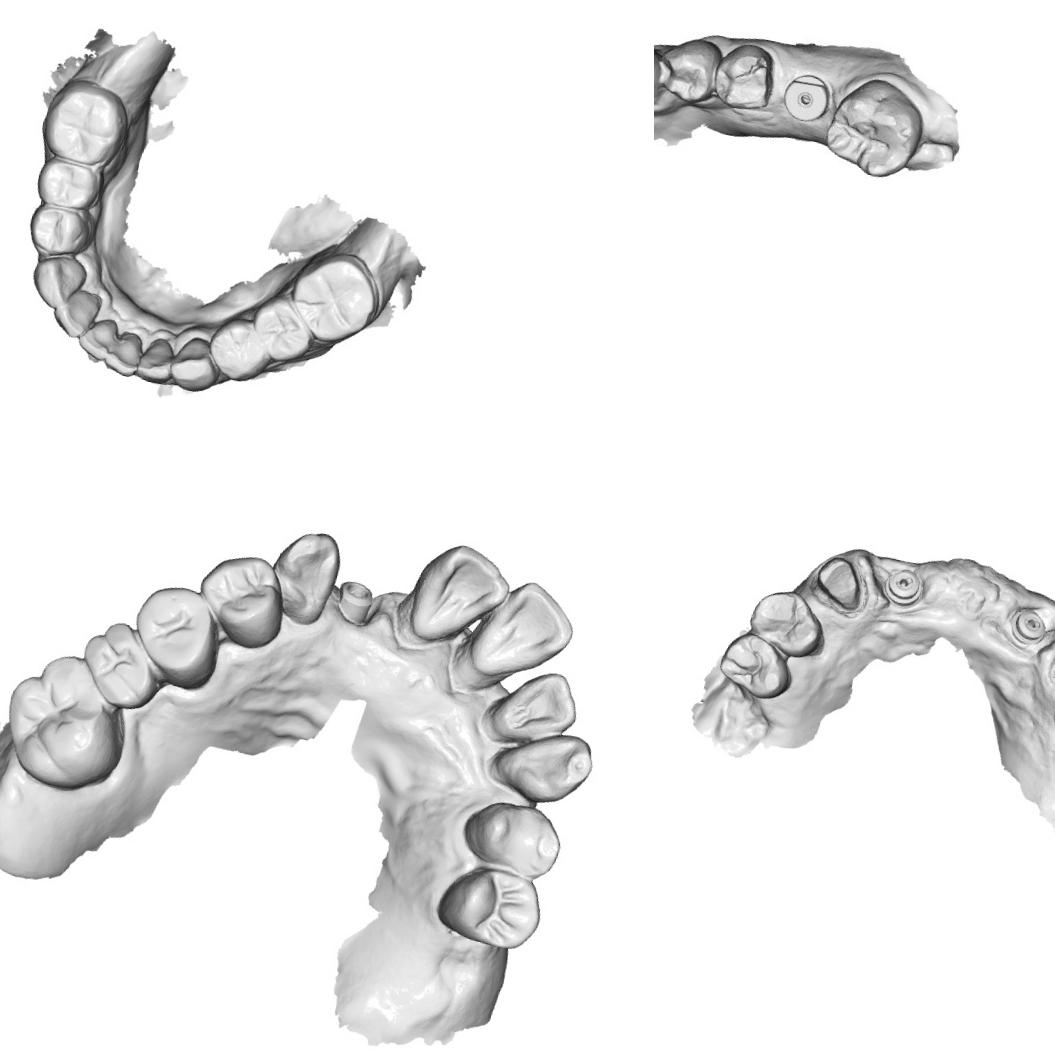canine: (488, 718, 600, 810), (264, 522, 347, 630), (24, 248, 90, 314), (165, 332, 225, 396), (654, 37, 673, 112)
crown: (810, 552, 871, 616)
implant: (778, 65, 832, 133), (329, 574, 380, 634)
implant_minus: (879, 564, 927, 610), (1006, 604, 1050, 648)
incisor: (465, 570, 584, 690), (399, 534, 514, 655), (486, 658, 586, 751), (47, 284, 103, 342), (132, 332, 180, 388), (74, 312, 122, 363), (100, 327, 146, 378)
molar: (0, 643, 137, 800), (818, 71, 928, 185), (282, 242, 386, 351), (68, 612, 168, 716), (35, 71, 136, 171)
premolar: (431, 858, 547, 956), (190, 545, 293, 653), (124, 579, 224, 688), (456, 792, 568, 882), (744, 583, 832, 662), (713, 627, 801, 703), (244, 288, 320, 368), (202, 311, 274, 386), (654, 35, 721, 107), (22, 200, 98, 262), (712, 40, 776, 110), (33, 154, 105, 213)
